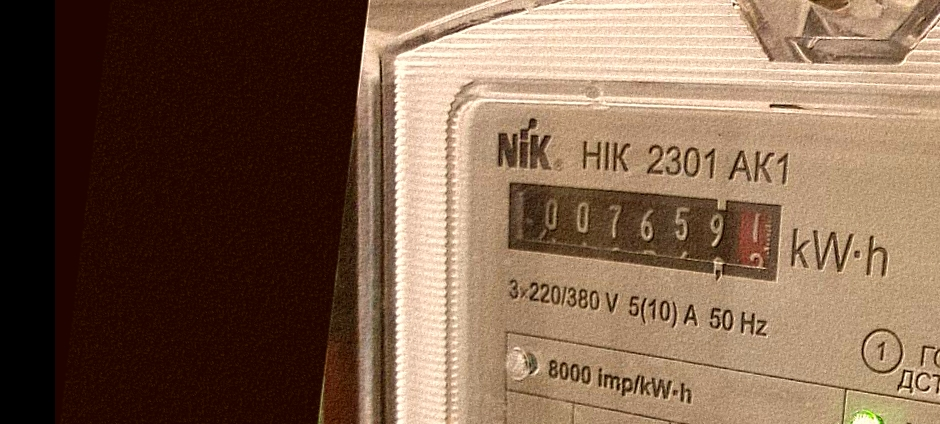0: (572, 196, 596, 238), (541, 194, 565, 234)
1: (745, 207, 768, 246)
5: (669, 202, 696, 245)
6: (635, 202, 662, 246)
7: (602, 199, 629, 241)
9: (705, 209, 731, 251)
screen: (492, 166, 793, 292)
